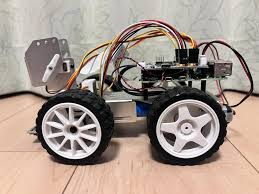vehicle: (23, 36, 237, 166)
